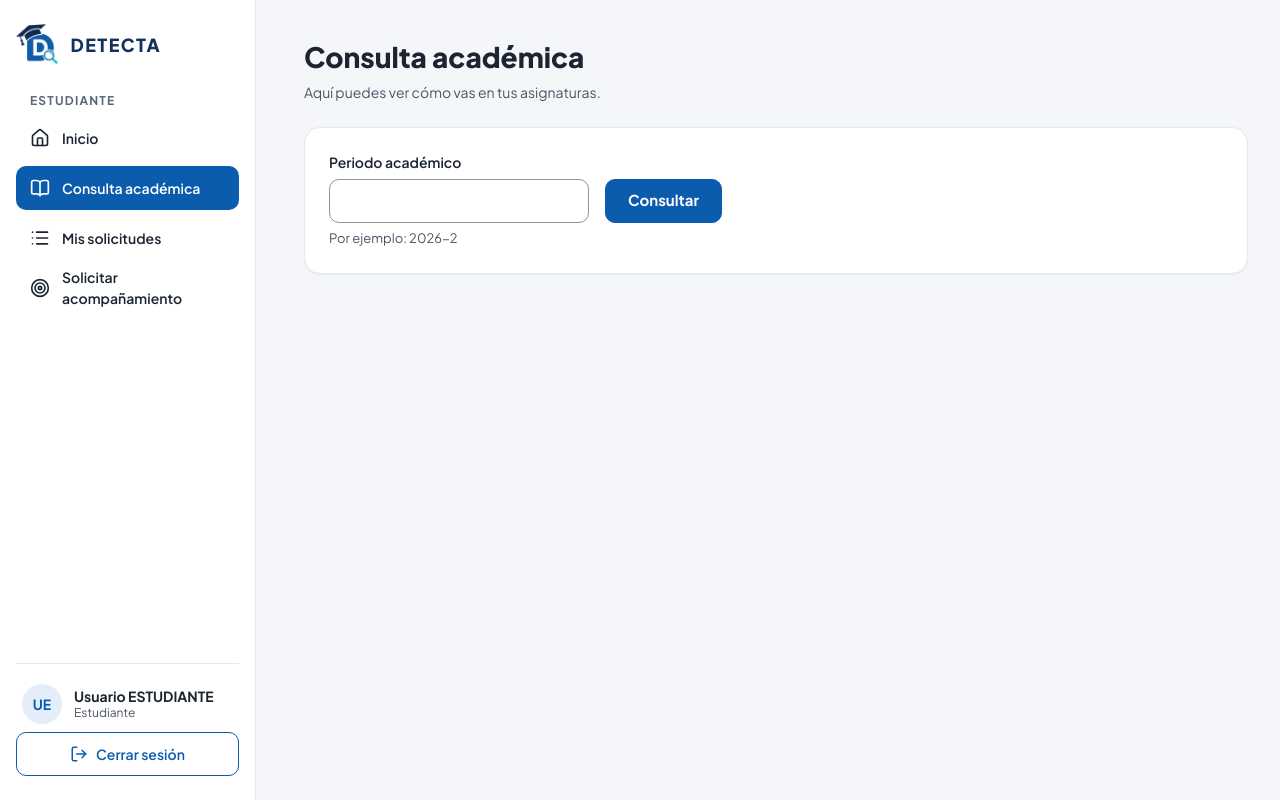
Consulta académica con cifras y avisos (D4b) › periodo sin registros: «Información no disponible» como aviso informativo
In the field labelled "Periodo académico": coordinates (459, 201) [329, 179, 589, 223], type "2025-1"
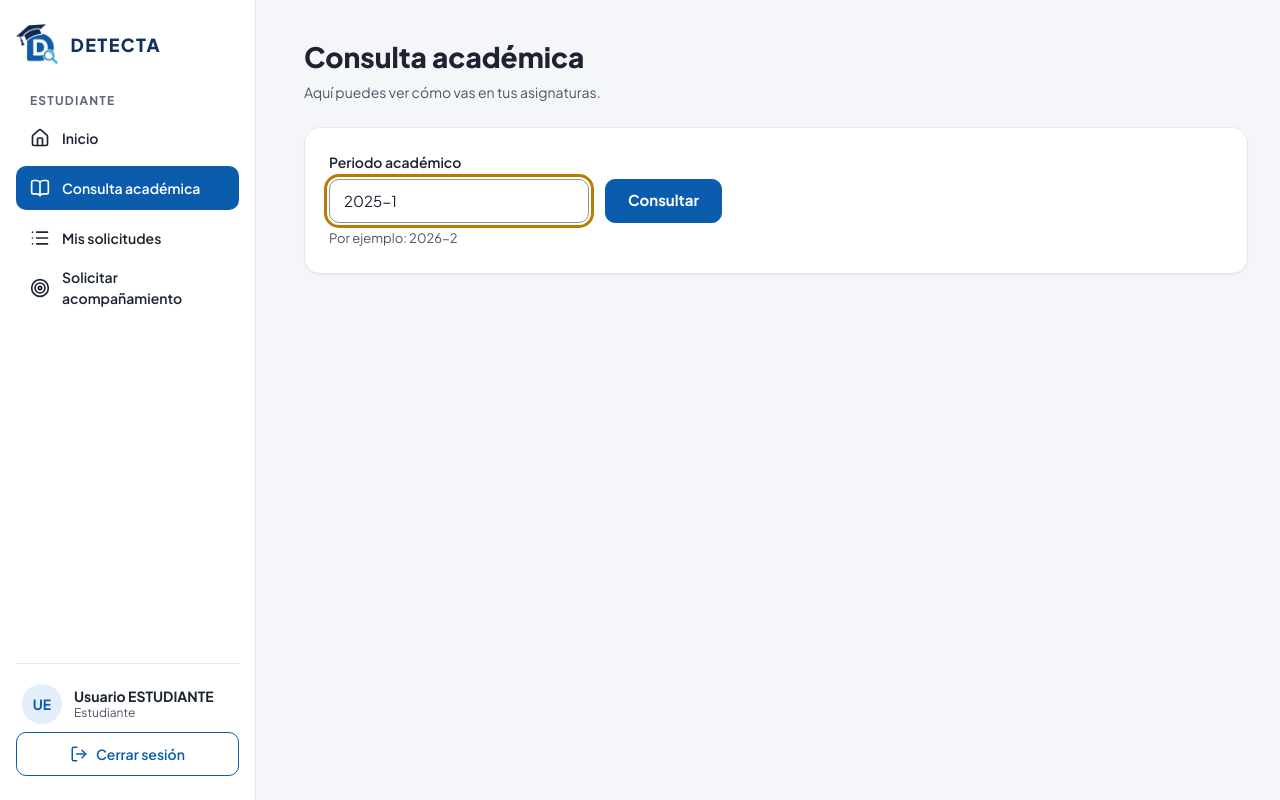
Click the button "Consultar": coordinates (664, 201) [605, 179, 722, 223]
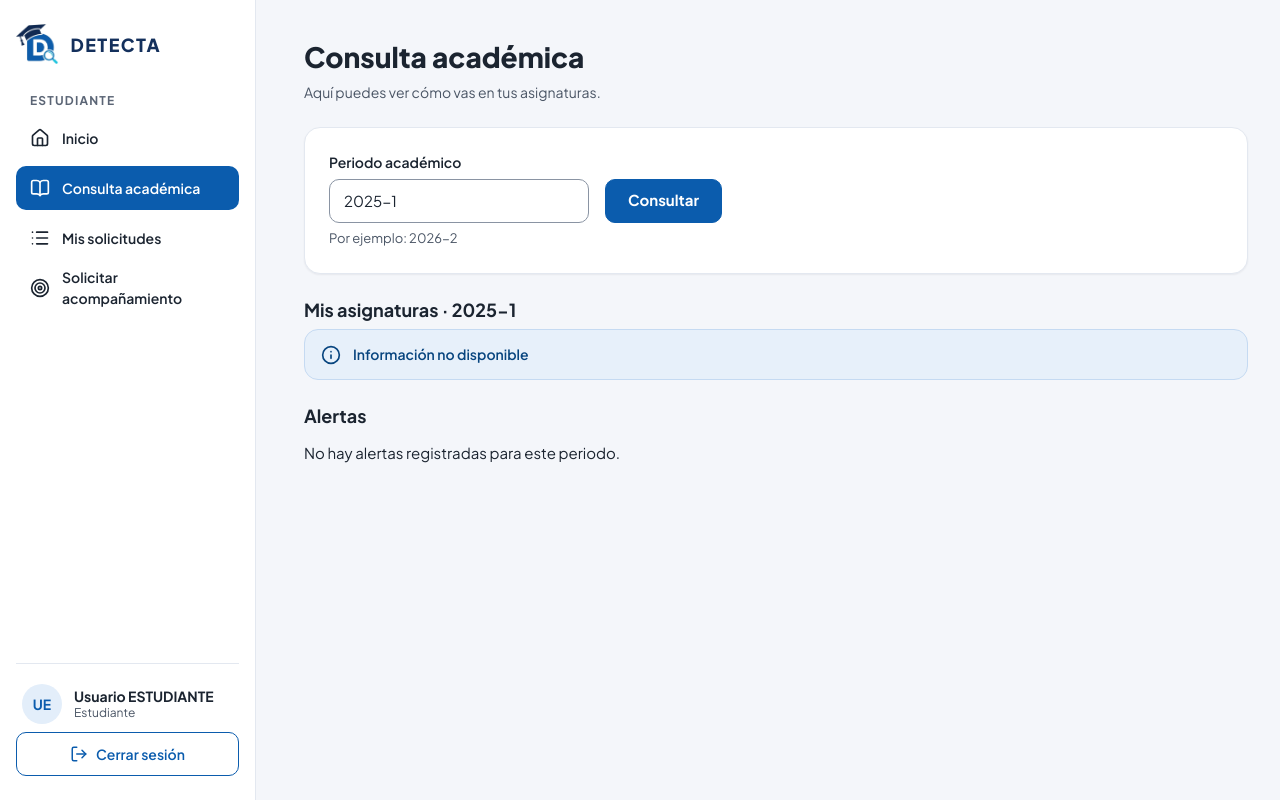
Result: the message reads "Información no disponible" at [353, 345, 529, 363]
